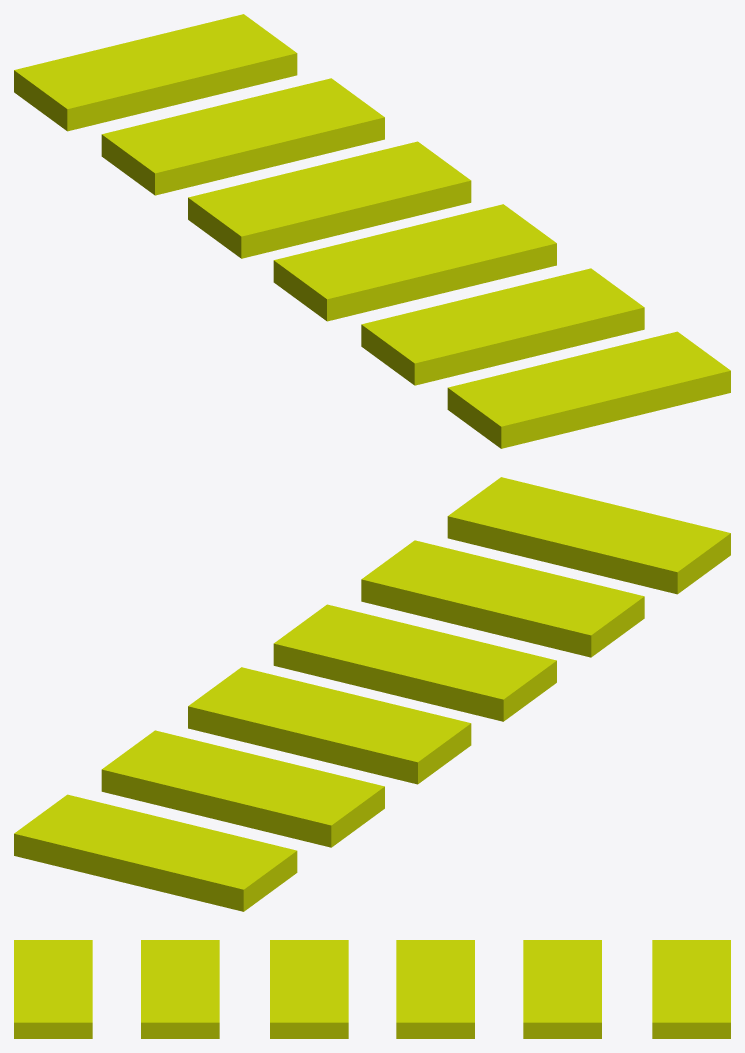
File: map(4).glb
3 renders of one model, top to bottom at view 1: azimuth 30°, elevation 25°; view 2: azimuth 150°, elevation 25°; view 3: azimuth 270°, elevation 25°, orthographic. The views are drawn at different scales.
Visible parts, largest first — view 1: Cube, Cube.002, Cube.005, Cube.003, Cube.004, Cube.001; view 2: Cube, Cube.002, Cube.005, Cube.003, Cube.004, Cube.001; view 3: Cube, Cube.001, Cube.002, Cube.005, Cube.004, Cube.003.
Part boxes in pixels (box(x1,y1,x2,y2)): Cube: box(14, 14, 297, 131); Cube.002: box(188, 141, 471, 258); Cube.005: box(273, 204, 556, 321); Cube.003: box(447, 331, 730, 448); Cube.004: box(361, 268, 644, 385); Cube.001: box(101, 78, 384, 195); Cube: box(14, 794, 297, 911); Cube.002: box(188, 667, 471, 784); Cube.005: box(273, 604, 556, 721); Cube.003: box(447, 477, 730, 594); Cube.004: box(361, 540, 644, 657); Cube.001: box(101, 730, 384, 847); Cube: box(652, 940, 730, 1038); Cube.001: box(523, 940, 601, 1038); Cube.002: box(396, 940, 474, 1038); Cube.005: box(270, 940, 348, 1038); Cube.004: box(141, 940, 219, 1038); Cube.003: box(14, 940, 92, 1038).
Size of the model in its own units: 7233 by 668 by 26558.
